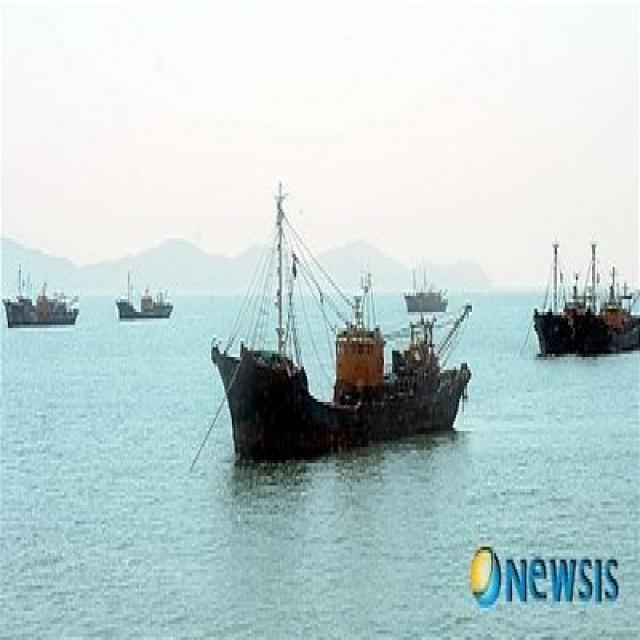Ship: (193, 162, 494, 493)
